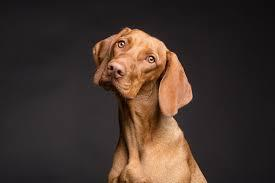Dog: (89, 24, 194, 117)
